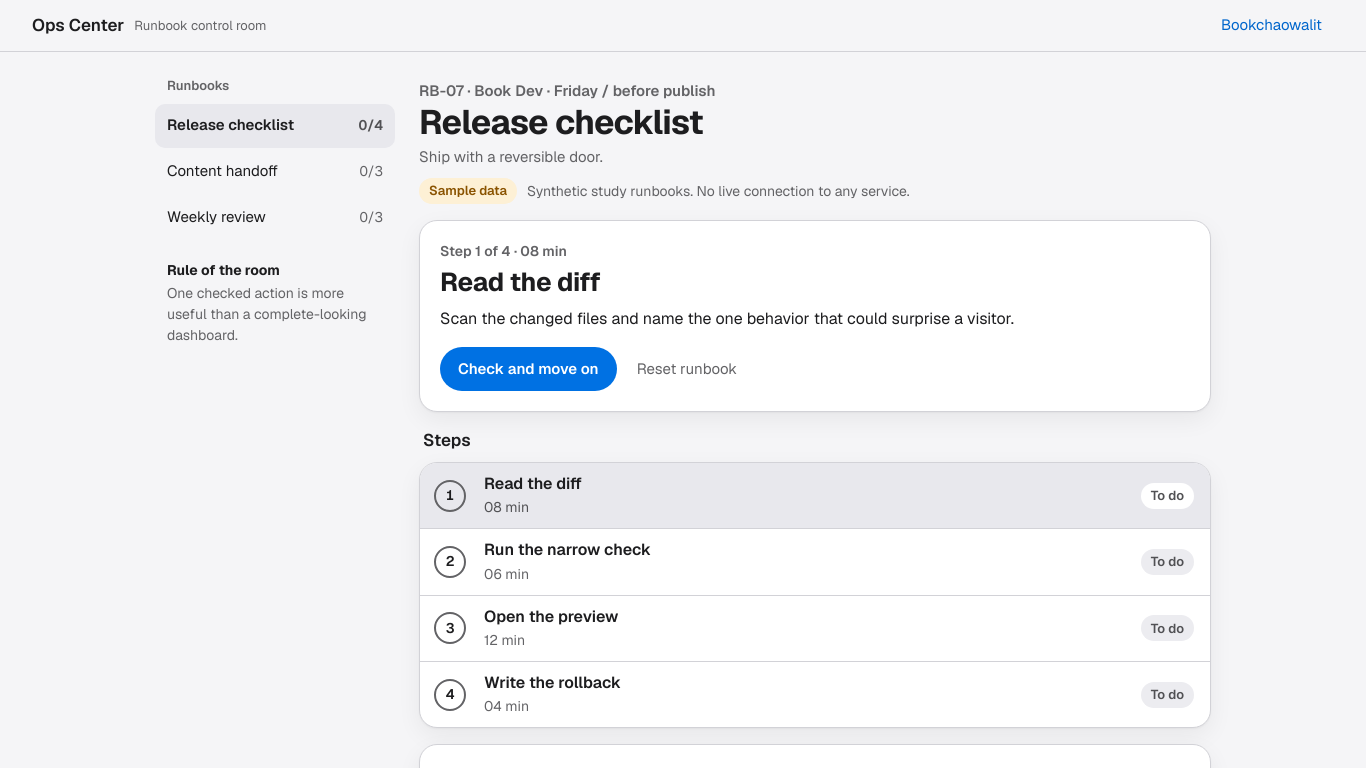
Test case: reset and undo › reset clears the runbook and focuses Undo; Undo restores and focuses Reset
Click the button with class "as-button".
click(528, 369)  # box [440, 347, 617, 391]
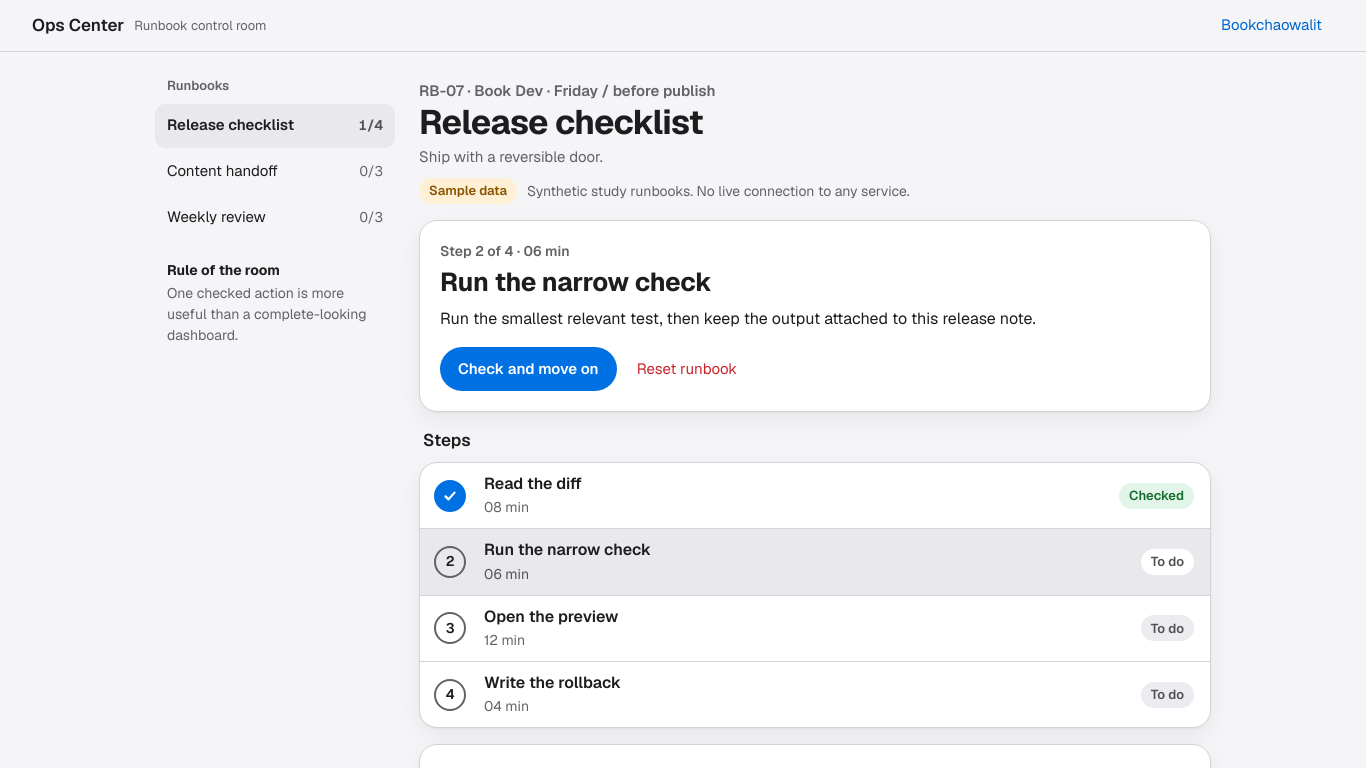
Click the button with class "as-button".
click(528, 369)  # box [440, 347, 617, 391]
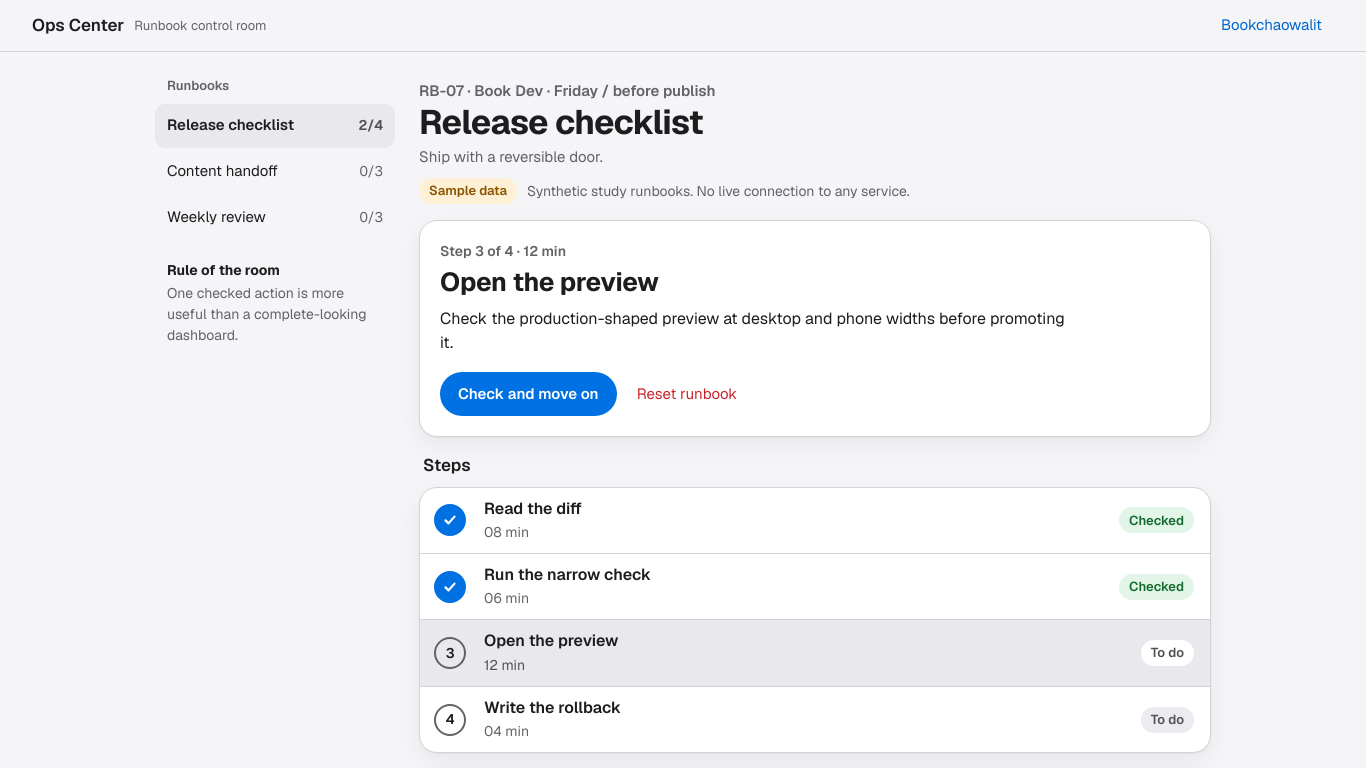
Click the button "Reset runbook".
click(687, 394)  # box [625, 372, 749, 416]
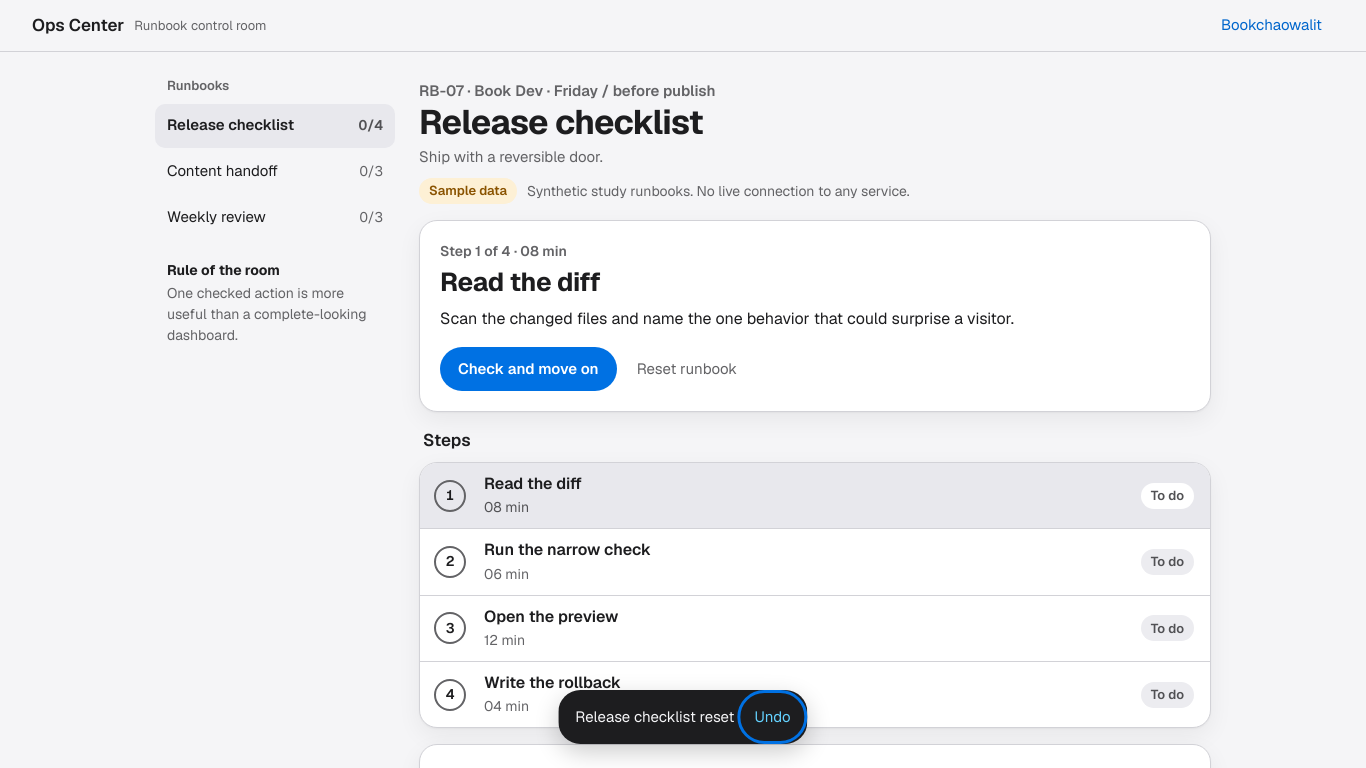
Result: the element with class "as-toast" shows "Release checklist reset" at [575, 707, 734, 726]
Result: the button "Undo" is shown
Click the button "Undo".
click(773, 717)  # box [742, 695, 803, 739]
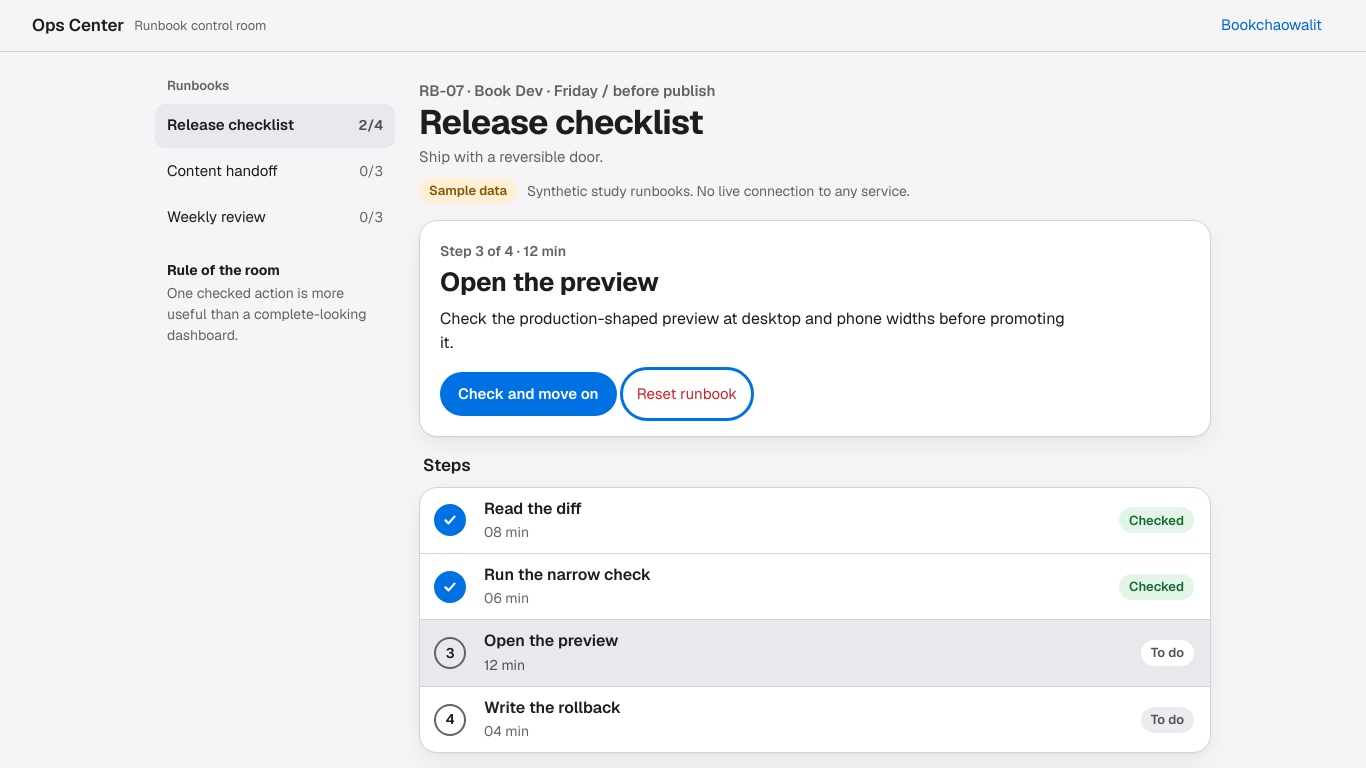
Result: the element with class "as-toast" is gone
Result: the heading with id "focus-title" reads "Open the preview" at [440, 265, 659, 299]
